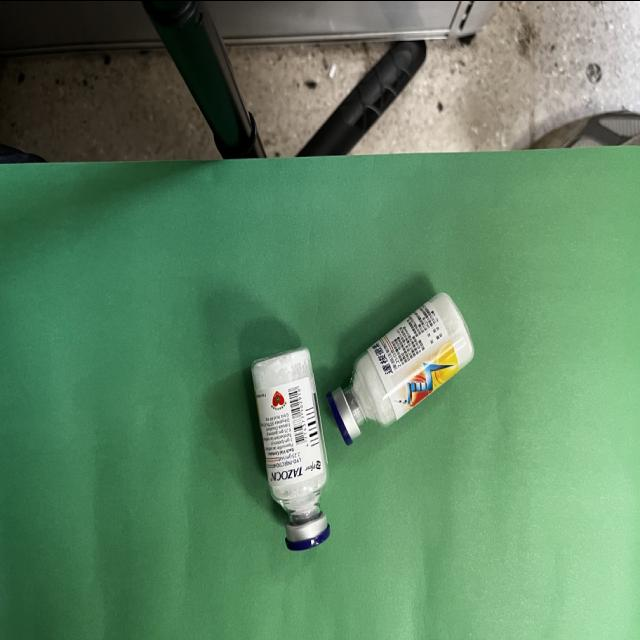Vials: (326, 292, 474, 443), (252, 347, 330, 549)
